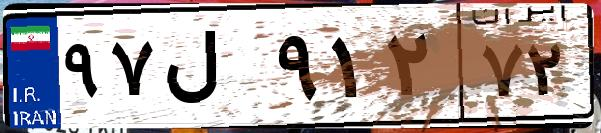1: (330, 28, 385, 110)
2: (385, 28, 445, 110), (525, 38, 570, 115)
7: (475, 38, 525, 113), (110, 28, 158, 98)
9: (270, 28, 330, 110), (57, 26, 110, 100)
ل: (158, 20, 270, 120)
